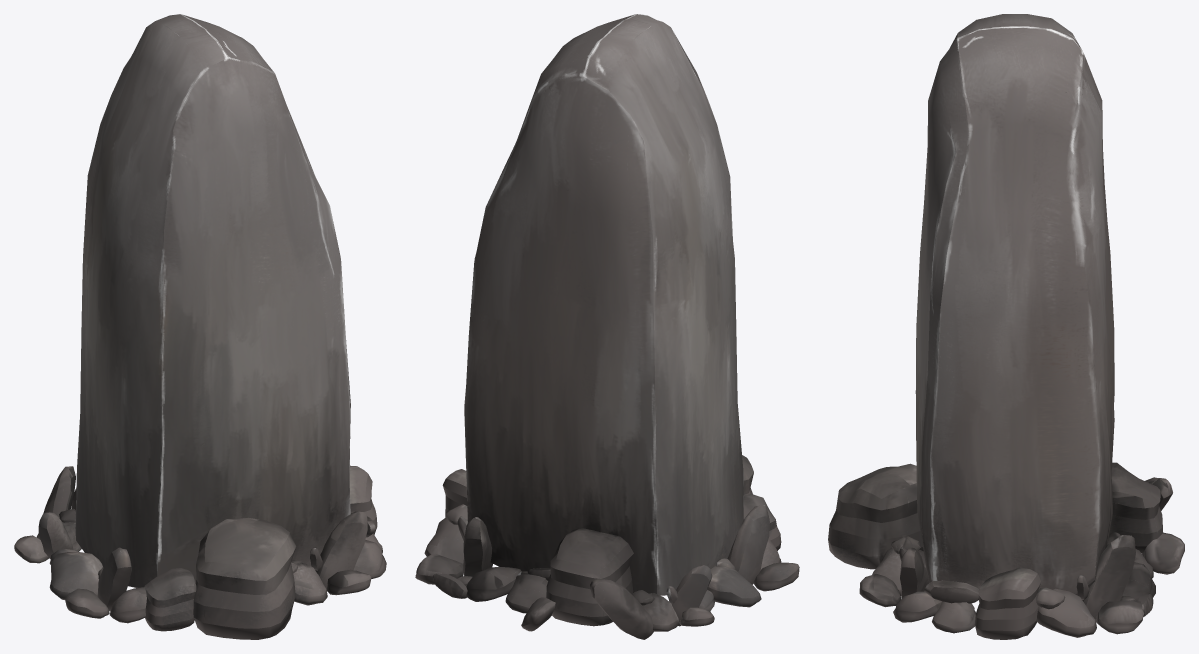
Rendered from Cengkuk.fbx.
The picture shows the model from 3 angles, left to right: view 1: azimuth 30°, elevation 25°; view 2: azimuth 150°, elevation 25°; view 3: azimuth 270°, elevation 25°; orthographic projection.
Parts seen in each view (by area): view 1: Cengkuk; view 2: Cengkuk; view 3: Cengkuk.
Boxes of the visible parts, x1,y1,x2,y2 form: Cengkuk: (14,14,386,639); Cengkuk: (415,14,799,639); Cengkuk: (828,14,1184,639).
Size of the model in its own units: 235 by 383 by 226.
1 material, 1 textured.
